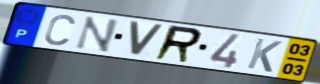4: (207, 32, 243, 70)
C: (42, 12, 77, 46)
K: (244, 37, 284, 74)
N: (72, 15, 121, 54)
R: (151, 24, 205, 65)
V: (127, 19, 166, 58)
